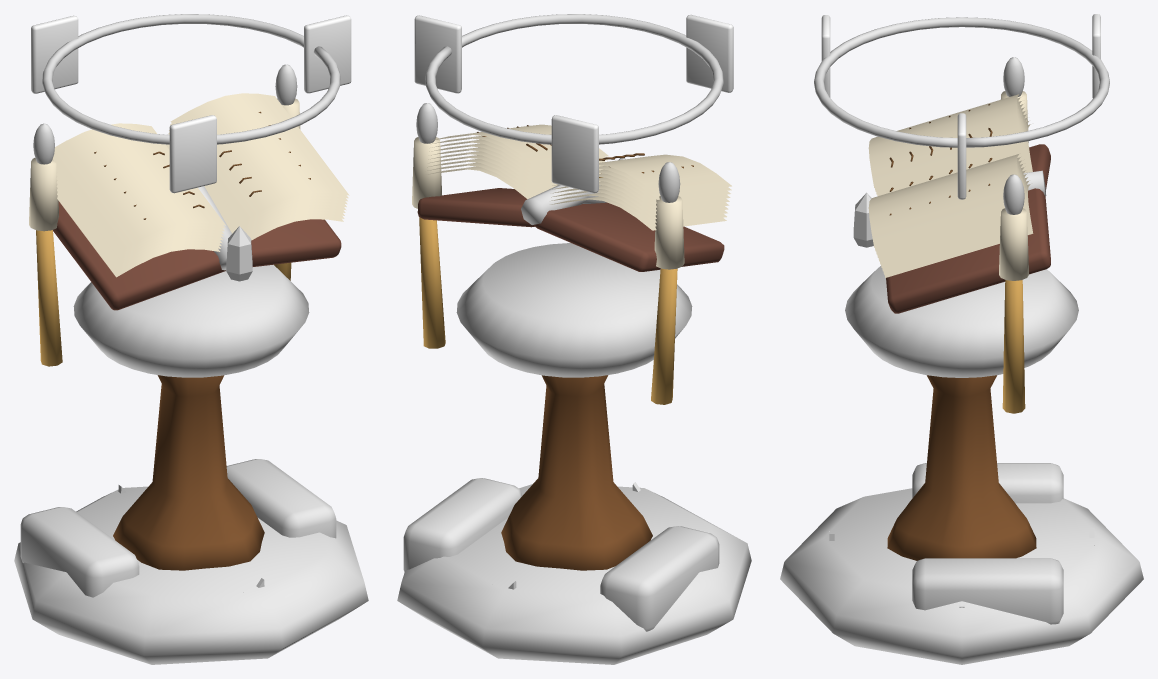
The model's file is book-4.fbx.
3 renders of one model, left to right at view 1: azimuth 30°, elevation 25°; view 2: azimuth 150°, elevation 25°; view 3: azimuth 270°, elevation 25°, orthographic.
Parts seen in each view (by area): view 1: Pages_Organic, LibraryStone, Turret_Organic, ReadingPlinth, Base_Bark, Petals_Organic, RuneCircle, Turret_Glow, Bookmark, BookSpine; view 2: LibraryStone, Turret_Organic, ReadingPlinth, Pages_Organic, Base_Bark, Petals_Organic, RuneCircle, Turret_Glow, BookSpine; view 3: LibraryStone, Pages_Organic, Turret_Organic, ReadingPlinth, Base_Bark, RuneCircle, Petals_Organic, Turret_Glow, Bookmark.
Boxes of the visible parts, x1=… form: Pages_Organic: x1=52, y1=93, x2=349, y2=310; LibraryStone: x1=14, y1=486, x2=368, y2=664; Turret_Organic: x1=29, y1=98, x2=300, y2=570; ReadingPlinth: x1=73, y1=264, x2=309, y2=377; Base_Bark: x1=20, y1=459, x2=336, y2=597; Petals_Organic: x1=31, y1=15, x2=351, y2=193; RuneCircle: x1=42, y1=14, x2=340, y2=144; Turret_Glow: x1=33, y1=64, x2=297, y2=164; Bookmark: x1=226, y1=226, x2=252, y2=281; BookSpine: x1=198, y1=186, x2=231, y2=270; LibraryStone: x1=397, y1=484, x2=751, y2=664; Turret_Organic: x1=412, y1=137, x2=684, y2=570; ReadingPlinth: x1=456, y1=243, x2=692, y2=377; Pages_Organic: x1=417, y1=124, x2=731, y2=271; Base_Bark: x1=403, y1=478, x2=719, y2=631; Petals_Organic: x1=414, y1=14, x2=733, y2=193; RuneCircle: x1=425, y1=14, x2=723, y2=144; Turret_Glow: x1=416, y1=103, x2=680, y2=202; BookSpine: x1=521, y1=185, x2=606, y2=224; LibraryStone: x1=780, y1=488, x2=1143, y2=664; Pages_Organic: x1=868, y1=94, x2=1050, y2=313; Turret_Organic: x1=887, y1=91, x2=1036, y2=560; ReadingPlinth: x1=845, y1=266, x2=1078, y2=377; Base_Bark: x1=912, y1=463, x2=1063, y2=624; RuneCircle: x1=814, y1=17, x2=1109, y2=147; Petals_Organic: x1=821, y1=14, x2=1100, y2=199; Turret_Glow: x1=1003, y1=57, x2=1024, y2=214; Bookmark: x1=853, y1=192, x2=873, y2=247.
Bounding box in the file's own units: 84 × 139 × 84.
